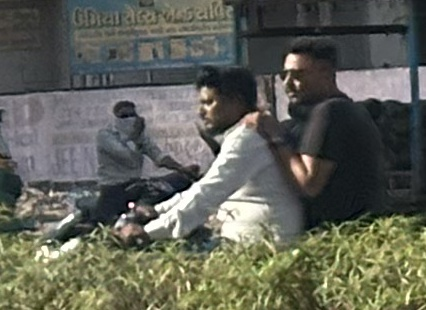BikeWithRider: (49, 37, 395, 252), (66, 98, 203, 230)
NoHelmet: (194, 63, 264, 133), (280, 38, 340, 103), (112, 99, 143, 133)
